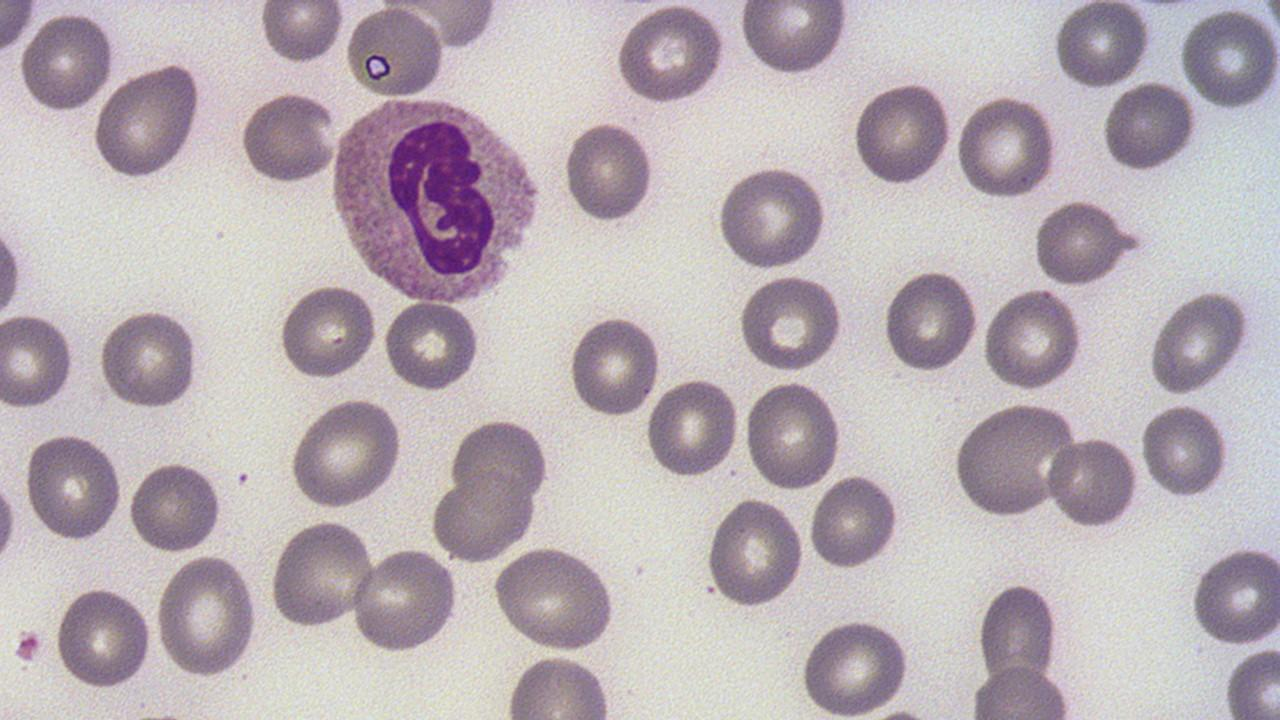RBC: (950, 398, 1078, 522), (154, 549, 259, 682), (286, 396, 405, 511), (491, 546, 619, 652), (92, 61, 205, 180), (716, 163, 830, 271), (703, 494, 806, 611), (269, 516, 374, 630), (350, 547, 460, 655), (614, 3, 728, 106), (22, 429, 124, 544), (797, 616, 914, 716), (96, 305, 204, 412), (744, 378, 845, 492), (1146, 289, 1252, 397), (980, 285, 1084, 394), (954, 93, 1059, 200), (851, 78, 952, 189), (737, 272, 845, 374), (53, 584, 154, 690), (880, 267, 980, 374), (565, 311, 662, 420), (275, 281, 378, 382), (17, 10, 117, 114), (561, 119, 656, 228), (430, 471, 541, 564), (1181, 8, 1279, 112), (1031, 200, 1147, 286), (644, 377, 740, 480), (381, 297, 483, 393), (239, 90, 339, 187), (343, 6, 446, 99), (126, 458, 225, 554), (447, 416, 552, 506), (976, 580, 1060, 692), (807, 472, 900, 573), (1188, 544, 1280, 646), (1046, 431, 1140, 530), (1050, 1, 1152, 91), (1100, 80, 1198, 173), (1139, 400, 1229, 501), (738, 2, 848, 78), (0, 310, 76, 412), (503, 650, 618, 716), (967, 661, 1075, 719), (258, 1, 346, 67), (1223, 642, 1279, 718), (0, 206, 25, 328), (0, 460, 19, 586), (0, 0, 35, 65)
WBC: (321, 90, 548, 305)
